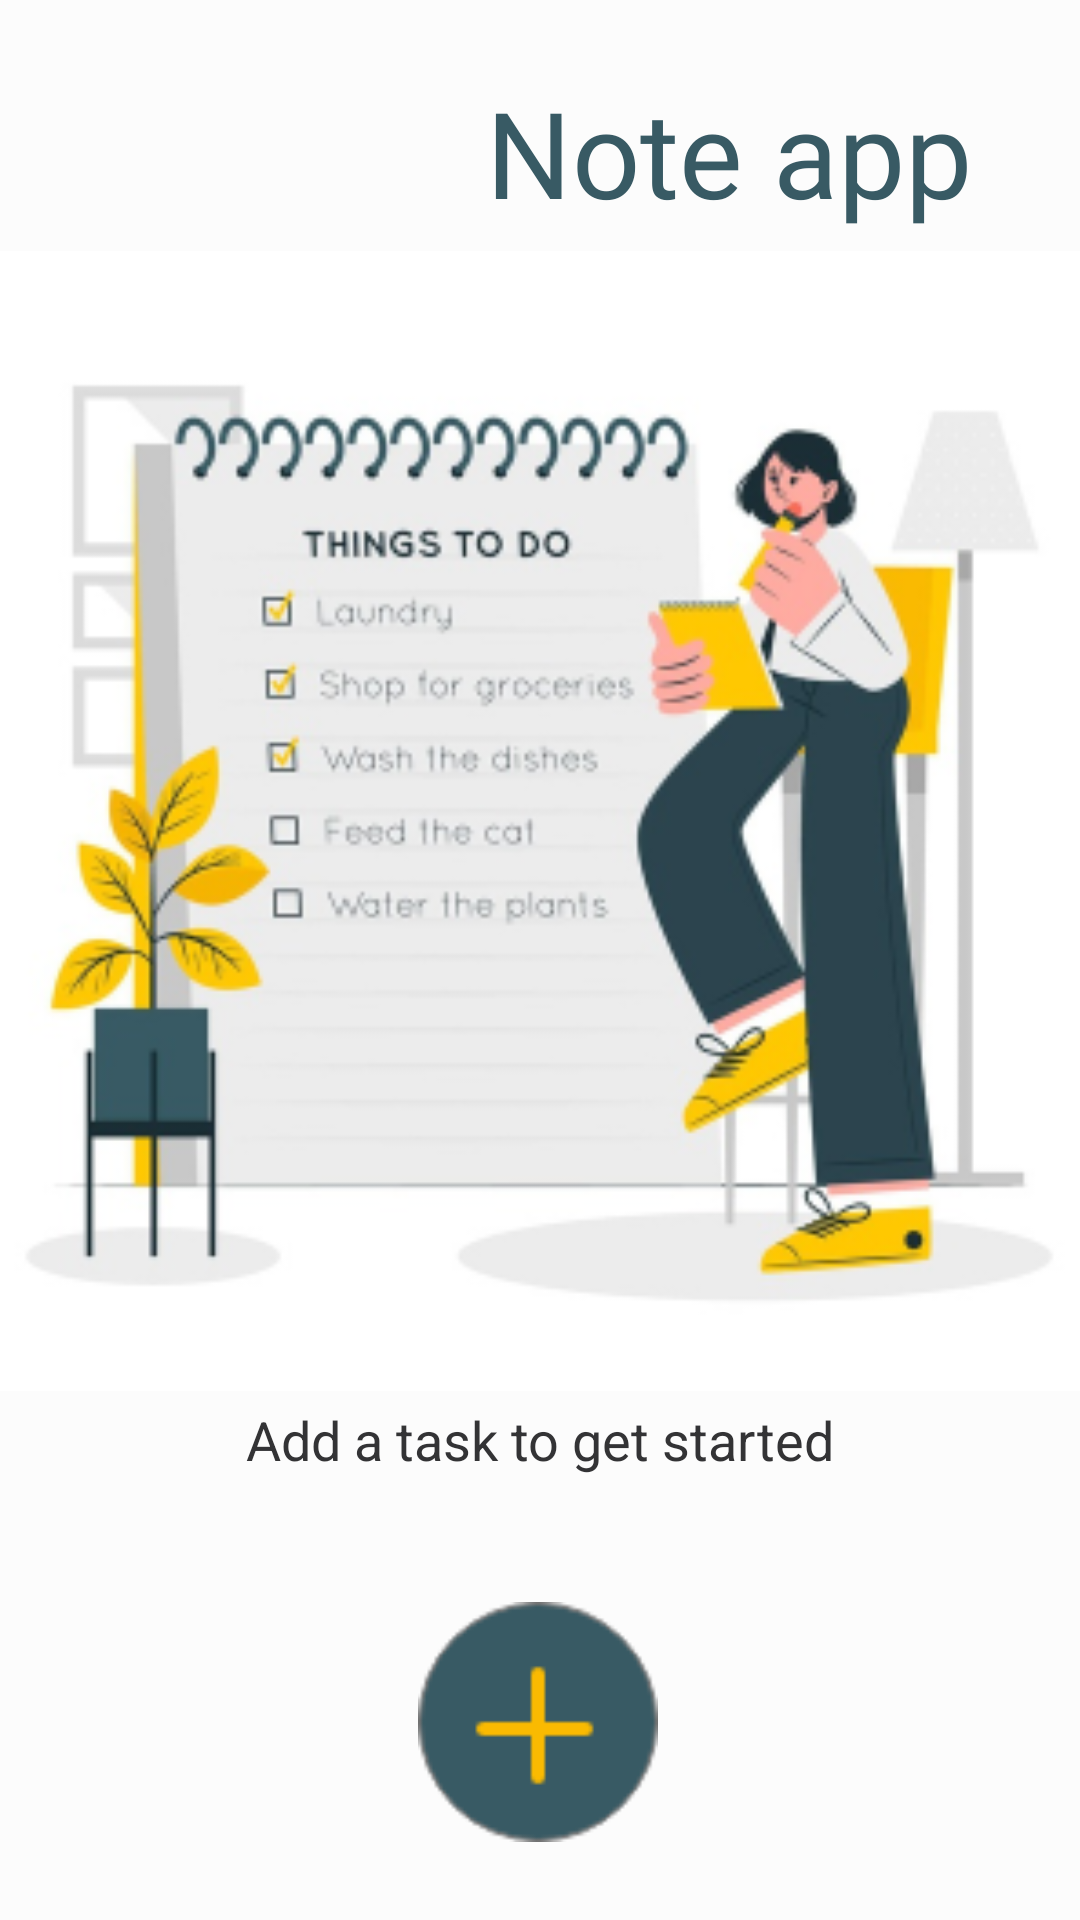

Locate icon controls on the screen. Image size 1080 x 1920, boxes as region(x1, y1, x2, y2).
addbtn: region(418, 1602, 658, 1842)
